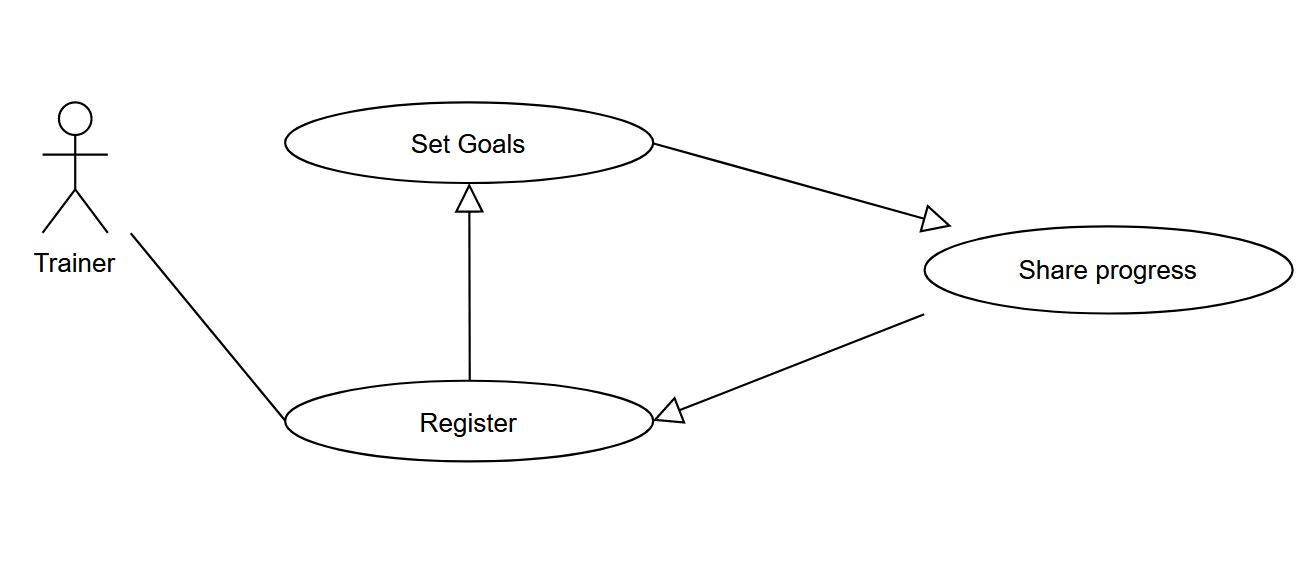actor: (37, 98, 113, 241)
association: (129, 230, 284, 418)
generalization: (655, 311, 931, 429), (651, 139, 950, 232), (452, 184, 486, 376)
text: (1015, 255, 1199, 286), (401, 125, 536, 164), (416, 405, 525, 442), (29, 247, 125, 281)
use_case: (924, 225, 1296, 319), (281, 97, 654, 187), (285, 377, 657, 465)
